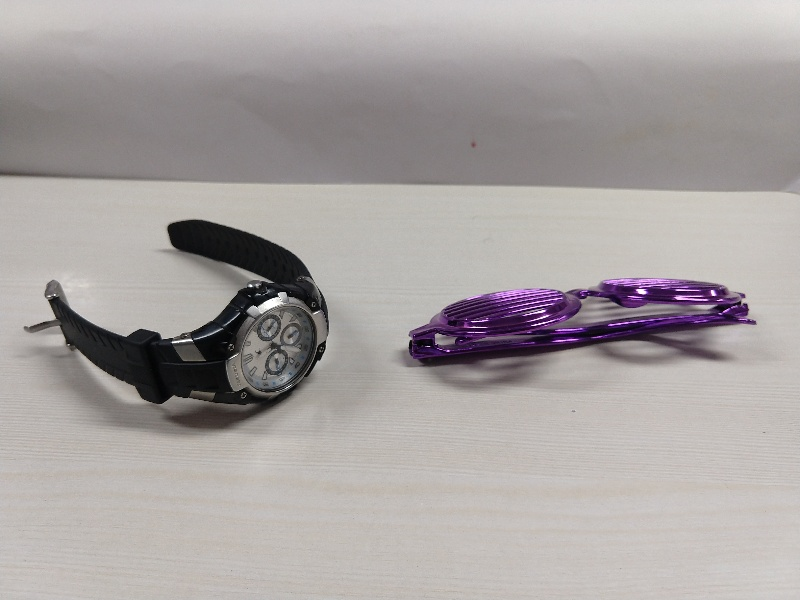shades: (395, 259, 759, 370)
watch: (12, 214, 343, 409)
